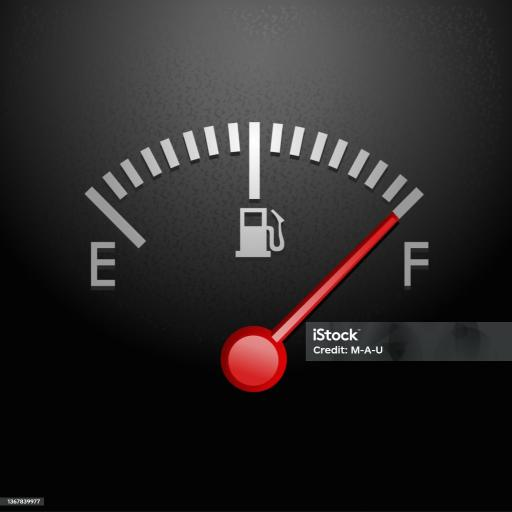empty: (90, 241, 114, 289)
fuel_icon: (226, 205, 287, 258)
full: (398, 242, 432, 294)
guage_area: (86, 115, 437, 407)
needle_center: (214, 319, 294, 401)
needle_tip: (376, 212, 409, 234)
